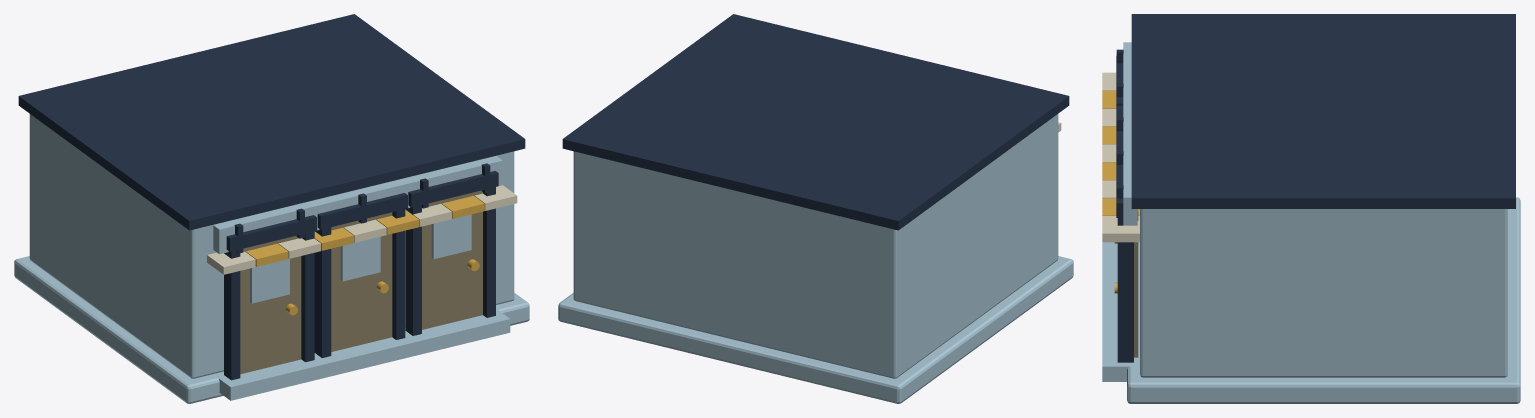
Rendered from conversion_warehouse_hall.glb.
3 views of the same model, side by side, from view 1: azimuth 30°, elevation 25°; view 2: azimuth 150°, elevation 25°; view 3: azimuth 270°, elevation 25° (orthographic). The views are drawn at different scales.
Visible parts, largest first — view 1: conversion_warehouse_hall ink, conversion_warehouse_hall mist, conversion_warehouse_hall patina, conversion_warehouse_hall glass, conversion_warehouse_hall plaster, conversion_warehouse_hall ochre; view 2: conversion_warehouse_hall mist, conversion_warehouse_hall ink; view 3: conversion_warehouse_hall ink, conversion_warehouse_hall mist, conversion_warehouse_hall plaster, conversion_warehouse_hall glass, conversion_warehouse_hall ochre, conversion_warehouse_hall patina.
Boxes of the visible parts, x1=… form: conversion_warehouse_hall ink: x1=18, y1=14, x2=525, y2=380; conversion_warehouse_hall mist: x1=14, y1=114, x2=529, y2=403; conversion_warehouse_hall patina: x1=240, y1=190, x2=482, y2=374; conversion_warehouse_hall glass: x1=213, y1=156, x2=502, y2=303; conversion_warehouse_hall plaster: x1=207, y1=185, x2=517, y2=274; conversion_warehouse_hall ochre: x1=245, y1=195, x2=484, y2=315; conversion_warehouse_hall mist: x1=558, y1=114, x2=1073, y2=403; conversion_warehouse_hall ink: x1=562, y1=14, x2=1069, y2=230; conversion_warehouse_hall ink: x1=1116, y1=14, x2=1515, y2=362; conversion_warehouse_hall mist: x1=1102, y1=197, x2=1520, y2=403; conversion_warehouse_hall plaster: x1=1102, y1=72, x2=1139, y2=242; conversion_warehouse_hall glass: x1=1123, y1=42, x2=1137, y2=225; conversion_warehouse_hall ochre: x1=1102, y1=90, x2=1139, y2=293; conversion_warehouse_hall patina: x1=1134, y1=209, x2=1138, y2=357.
Bounding box in the file's own units: 0.945 × 0.48 × 0.8875.
